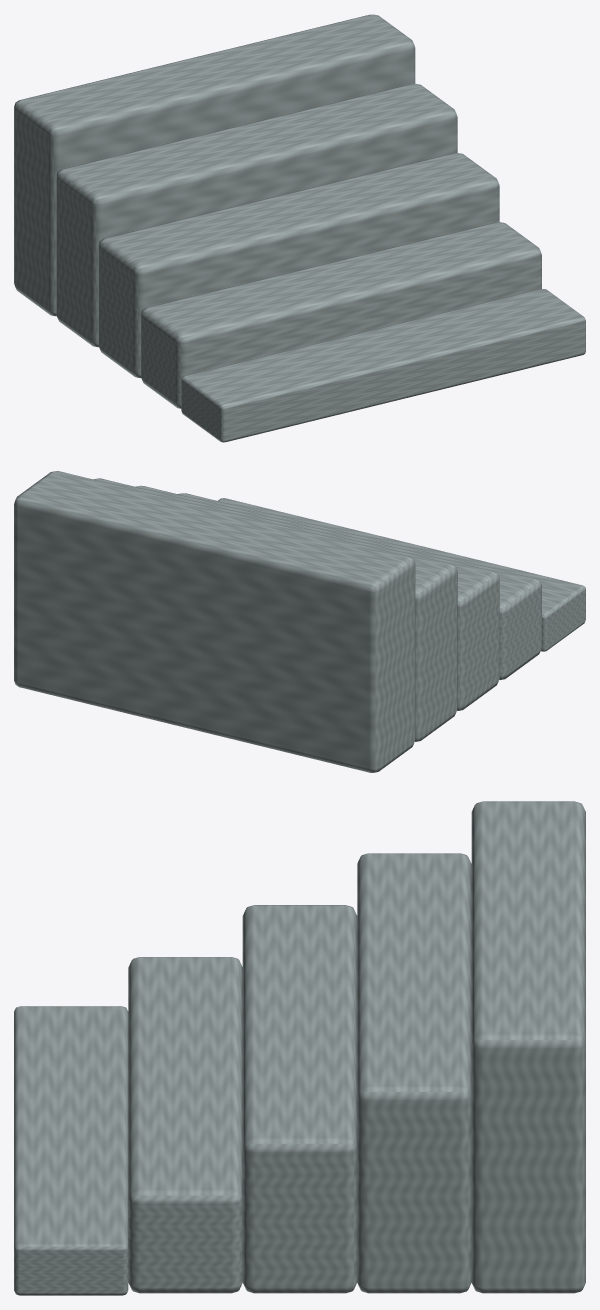
Rendered from dwarven-runeforge-dungeon-dwarven-runeforge-dungeon-st-84902855__28579.glb.
3 renders of one model, top to bottom at view 1: azimuth 30°, elevation 25°; view 2: azimuth 150°, elevation 25°; view 3: azimuth 270°, elevation 25°, orthographic. The views are drawn at different scales.
Visible parts, largest first — view 1: dwarven-runeforge-dungeon-stair; view 2: dwarven-runeforge-dungeon-stair; view 3: dwarven-runeforge-dungeon-stair.
Part boxes in pixels (bbox=[...]): dwarven-runeforge-dungeon-stair: bbox=[14, 14, 585, 442]; dwarven-runeforge-dungeon-stair: bbox=[14, 471, 585, 772]; dwarven-runeforge-dungeon-stair: bbox=[14, 801, 585, 1295].
Size of the model in its own units: 2 by 1 by 2.
1 material, 1 textured.
